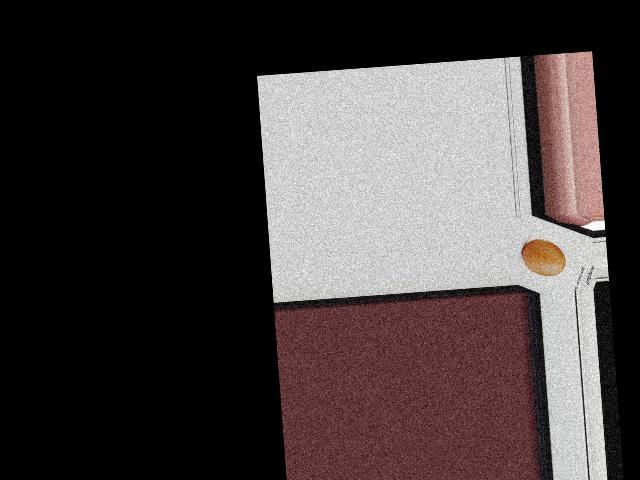egg: (520, 237, 566, 277)
